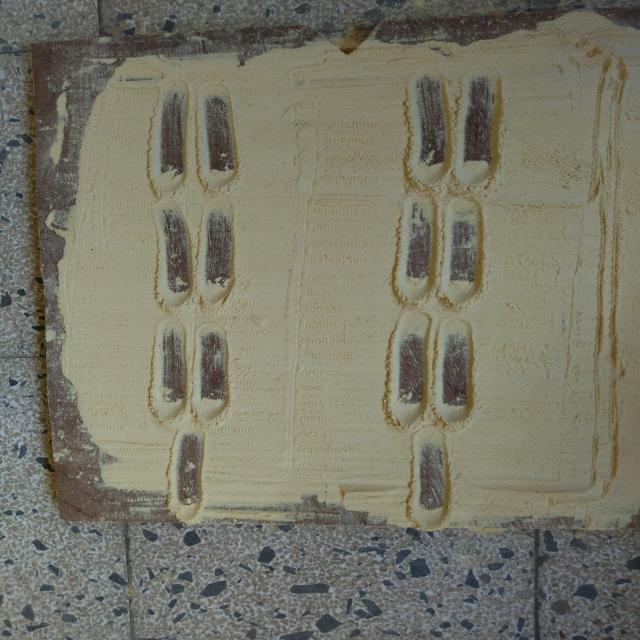double: (398, 62, 508, 200), (380, 310, 484, 430), (389, 196, 494, 311), (147, 76, 243, 198), (147, 198, 243, 310), (148, 316, 236, 430)
single: (408, 419, 460, 531), (162, 426, 216, 528)
